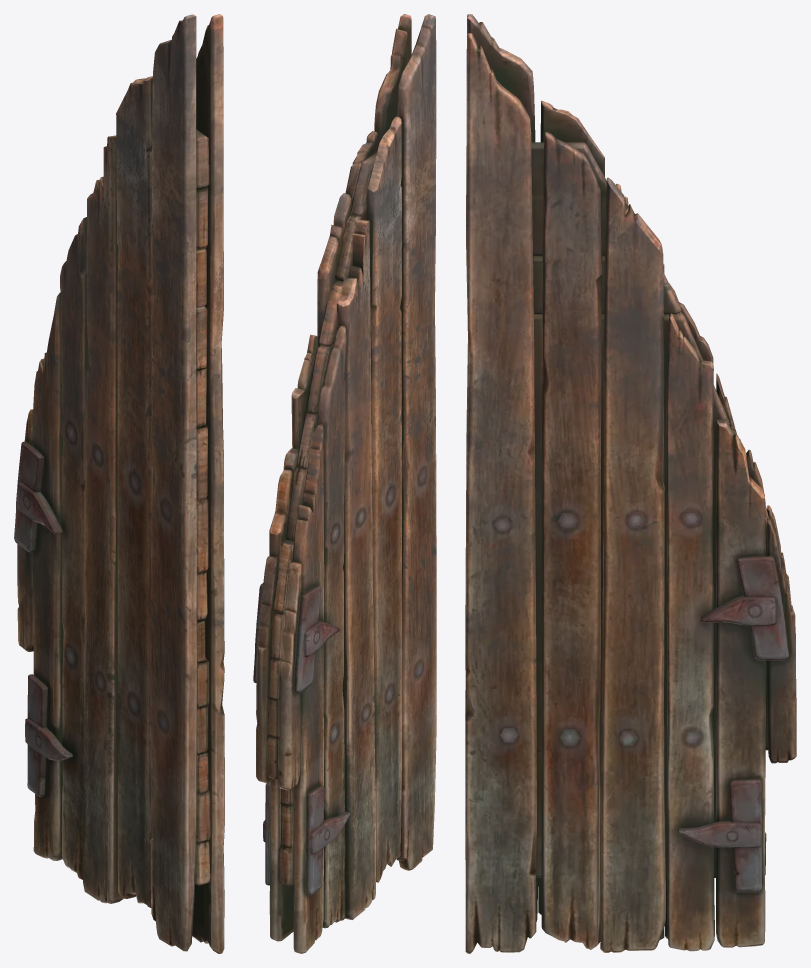
3 renders of one model, left to right at view 1: azimuth 30°, elevation 25°; view 2: azimuth 150°, elevation 25°; view 3: azimuth 270°, elevation 25°, orthographic. The views are drawn at different scales.
Parts seen in each view (by area): view 1: SM_DeathTemple_Door_Right_01_LOD0; view 2: SM_DeathTemple_Door_Right_01_LOD0; view 3: SM_DeathTemple_Door_Right_01_LOD0.
Part boxes in pixels (x1=…): SM_DeathTemple_Door_Right_01_LOD0: x1=14, y1=14, x2=224, y2=953; SM_DeathTemple_Door_Right_01_LOD0: x1=253, y1=14, x2=436, y2=953; SM_DeathTemple_Door_Right_01_LOD0: x1=465, y1=14, x2=796, y2=953.
Bounding box in the file's own units: 0.4229 × 6.5 × 2.11.
Materials: 1 (1 with a texture image).
